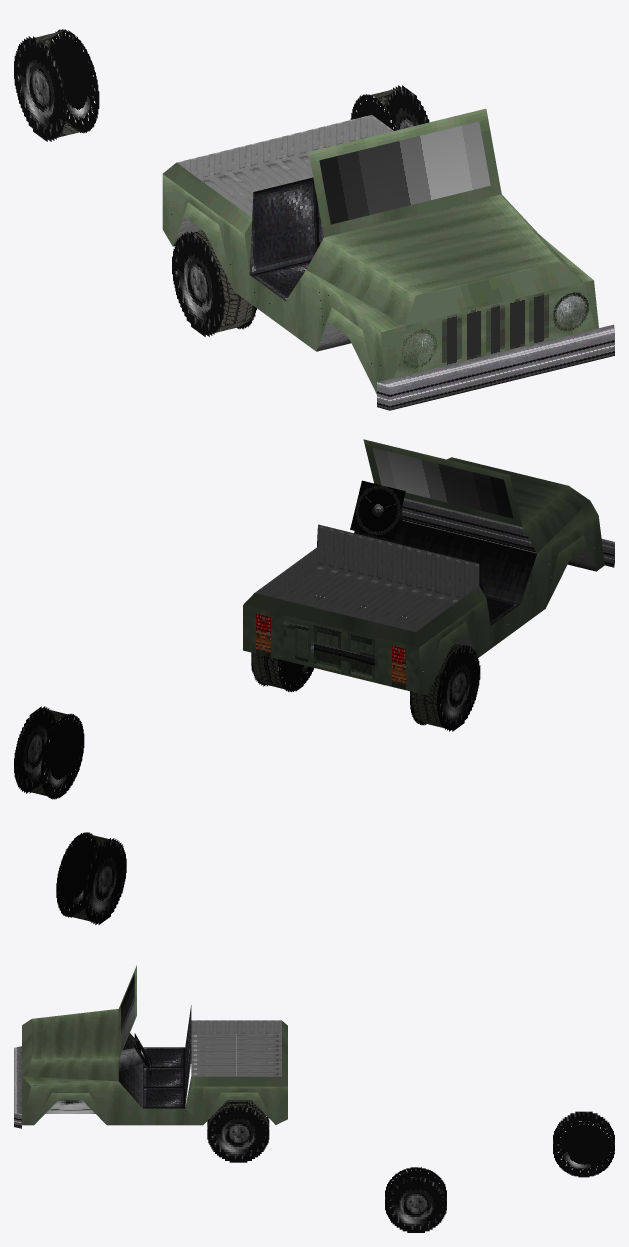
Rendered from PjeepZ.obj.
3 views of the same model, one above another, from view 1: azimuth 30°, elevation 25°; view 2: azimuth 150°, elevation 25°; view 3: azimuth 270°, elevation 25° (orthographic). The views are drawn at different scales.
Bounding box in the file's own units: 3150 × 2379 × 7586.
17 materials, 17 textured.
